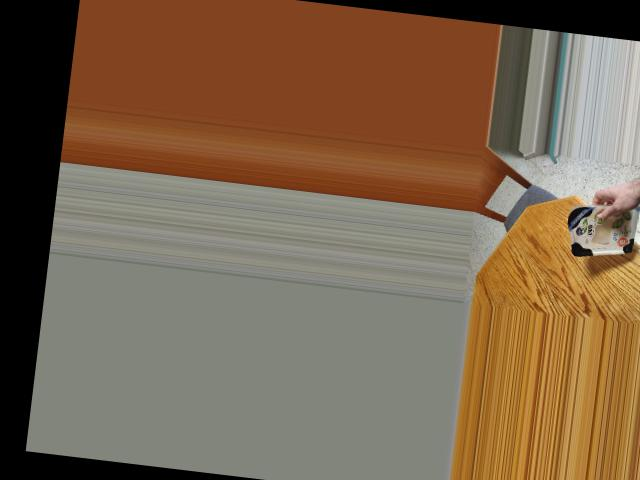cheese: (561, 199, 640, 262)
